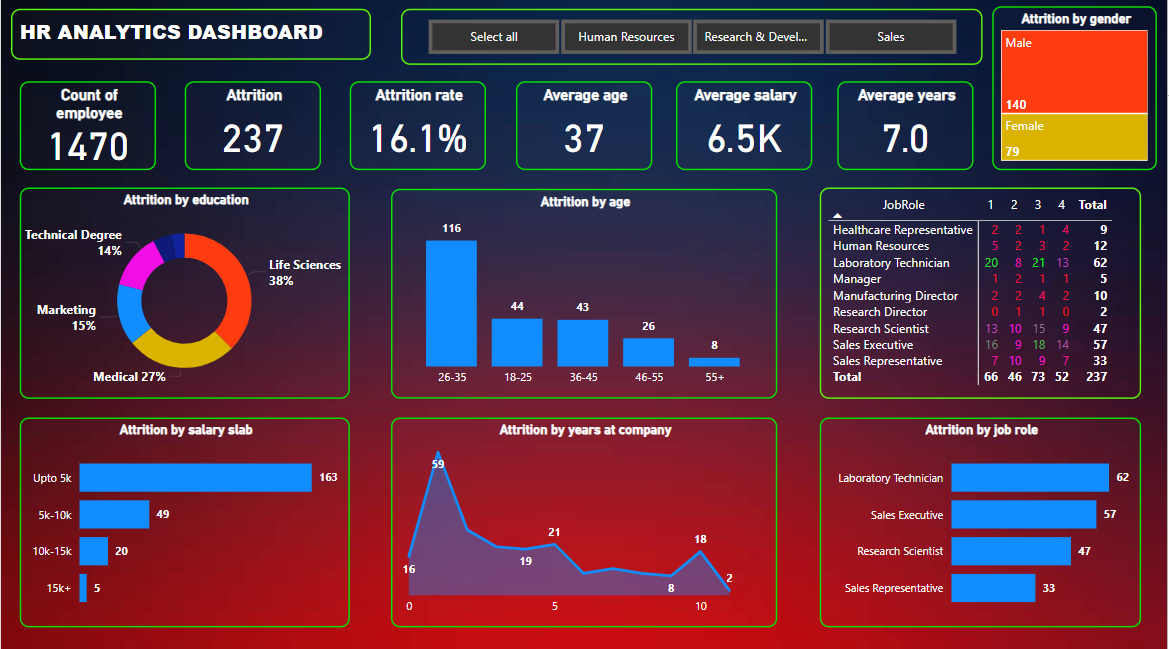

This screenshot's page, from the dashboard's own definition file:
{"tool":"powerbi","page":{"name":"Page 1","canvas":[1280,720],"ordinal":0},"visuals":[{"type":"card","title":"Count of employee","fields":{"Values":["CountNonNull(HR_Analytics.EmpID)"]},"box":[20.6,94.7,149.6,97.4],"z":0},{"type":"card","title":"Attrition","fields":{"Values":["Sum(HR_Analytics.AttritionCount)"]},"box":[201.7,94.7,149.6,97.4],"z":1000},{"type":"card","title":"Attrition rate","fields":{"Values":["HR_Analytics.Attritionrate"]},"box":[382.8,94.7,149.6,97.4],"z":2000},{"type":"card","title":"Average age","fields":{"Values":["Avg(HR_Analytics.Age)"]},"box":[565.4,94.7,149.6,97.4],"z":3000},{"type":"card","title":"Average salary","fields":{"Values":["Avg(HR_Analytics.MonthlyIncome)"]},"box":[741,94.7,149.6,97.4],"z":4000},{"type":"card","title":"Average years","fields":{"Values":["Avg(HR_Analytics.YearsAtCompany)"]},"box":[918,94.7,149.6,97.4],"z":5000},{"type":"donutChart","title":"Attrition by education","fields":{"Category":["HR_Analytics.EducationField"],"Y":["Sum(HR_Analytics.AttritionCount)"]},"box":[20.6,211.3,362.3,231.9],"z":6000},{"type":"columnChart","title":"Attrition by age","fields":{"Category":["HR_Analytics.AgeGroup"],"Y":["Sum(HR_Analytics.AttritionCount)"]},"box":[428.1,212.7,424,230.5],"z":7000},{"type":"pivotTable","fields":{"Rows":["HR_Analytics.JobRole"],"Columns":["HR_Analytics.JobSatisfaction"],"Values":["Sum(HR_Analytics.AttritionCount)"]},"box":[898.8,211.3,352.7,231.9],"z":8000},{"type":"barChart","title":"Attrition by salary slab","fields":{"Category":["HR_Analytics.SalarySlab"],"Y":["Sum(HR_Analytics.AttritionCount)"]},"box":[20.6,463.8,362.3,230.5],"z":9000},{"type":"barChart","title":"Attrition by job role","fields":{"Category":["HR_Analytics.JobRole"],"Y":["Sum(HR_Analytics.AttritionCount)"]},"box":[898.8,463.8,352.7,230.5],"z":10000},{"type":"areaChart","title":"Attrition by years at company","fields":{"Category":["HR_Analytics.YearsAtCompany"],"Y":["Sum(HR_Analytics.AttritionCount)"]},"box":[428.1,463.8,424,230.5],"z":11000},{"type":"treemap","title":"Attrition by gender","fields":{"Group":["HR_Analytics.Gender"],"Values":["Sum(HR_Analytics.AttritionCount)"]},"box":[1088.2,12.3,181.1,179.8],"z":12000},{"type":"slicer","fields":{"Values":["HR_Analytics.Department"]},"box":[439.1,15.1,638.1,61.7],"z":13000},{"type":"textbox","box":[11,15.1,395.2,56.3],"z":14000}]}

Visuals, with their boxes in screenshot pixels (x1, y1, x2, y2), scaled from the page's 1280x720 canvas onto the 1169x649 screenshot:
"Count of employee" card: rect(19, 85, 155, 173)
"Attrition" card: rect(184, 85, 321, 173)
"Attrition rate" card: rect(350, 85, 486, 173)
"Average age" card: rect(516, 85, 653, 173)
"Average salary" card: rect(677, 85, 813, 173)
"Average years" card: rect(838, 85, 975, 173)
"Attrition by education" donutChart: rect(19, 190, 350, 399)
"Attrition by age" columnChart: rect(391, 192, 778, 399)
pivotTable - HR_Analytics.JobRole x HR_Analytics.JobSatisfaction: rect(821, 190, 1143, 399)
"Attrition by salary slab" barChart: rect(19, 418, 350, 626)
"Attrition by job role" barChart: rect(821, 418, 1143, 626)
"Attrition by years at company" areaChart: rect(391, 418, 778, 626)
"Attrition by gender" treemap: rect(994, 11, 1159, 173)
slicer - HR_Analytics.Department: rect(401, 14, 984, 69)
textbox: rect(10, 14, 371, 64)
